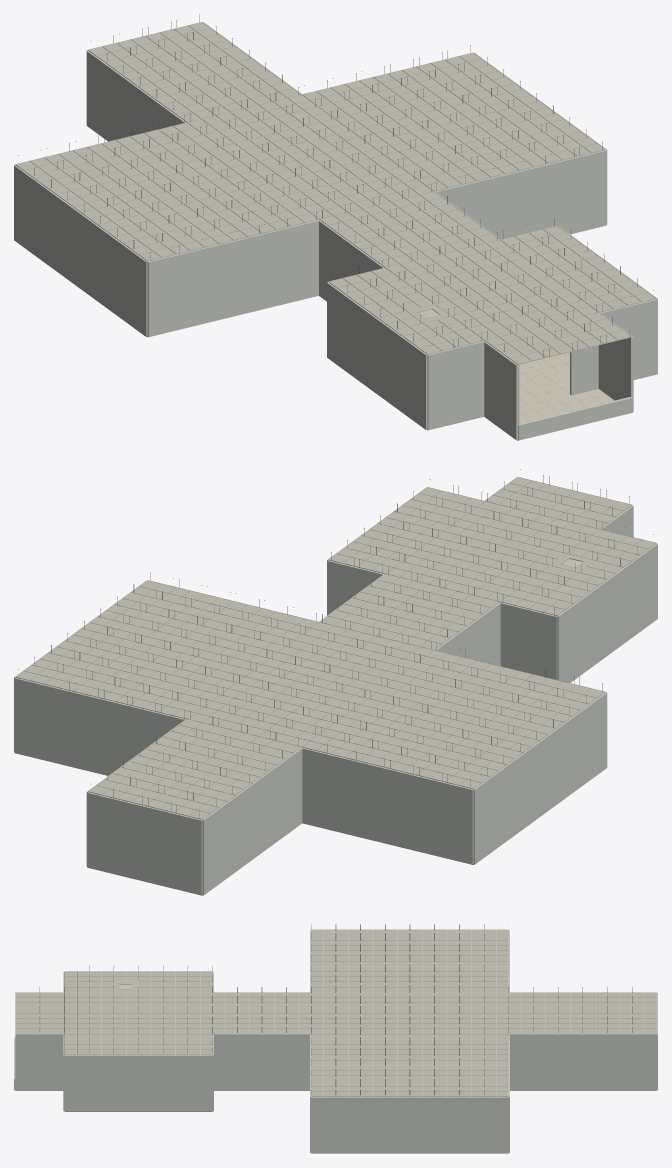
The model's file is foundation-fitted.glb.
3 renders of one model, top to bottom at view 1: azimuth 30°, elevation 25°; view 2: azimuth 150°, elevation 25°; view 3: azimuth 270°, elevation 25°, orthographic. The views are drawn at different scales.
Parts seen in each view (by area): view 1: Shell_west_store_south, Shell_west_store_back, Shell_east_store_south, Shell_west_atrium, Shell_west_corridor_north, Shell_west_arrival, Shell_east_arrival, Shell_west_apron, Shell_west_corridor_south, Shell_east_apron, Shell_entry_boundary; view 2: Shell_west_store_north, Shell_west_store_back, Shell_east_store_north, Shell_corridor_end, Shell_west_corridor_north, Shell_west_atrium, Shell_west_atrium_shoulder, Shell_west_corridor_south, Shell_east_atrium_shoulder; view 3: Shell_east_store_back, Shell_east_atrium, Shell_east_corridor_north, Shell_east_corridor_south, Shell_east_apron.
Part boxes in pixels (x1=…): Shell_west_store_south: x1=147, y1=220, x2=318, y2=337; Shell_west_store_back: x1=14, y1=165, x2=147, y2=336; Shell_east_store_south: x1=435, y1=150, x2=606, y2=239; Shell_west_atrium: x1=327, y1=282, x2=427, y2=429; Shell_west_corridor_north: x1=86, y1=50, x2=185, y2=141; Shell_west_arrival: x1=427, y1=341, x2=484, y2=430; Shell_east_arrival: x1=570, y1=299, x2=657, y2=395; Shell_west_apron: x1=484, y1=341, x2=519, y2=440; Shell_west_corridor_south: x1=318, y1=220, x2=384, y2=301; Shell_east_apron: x1=598, y1=312, x2=633, y2=411; Shell_entry_boundary: x1=518, y1=397, x2=633, y2=440; Shell_west_store_north: x1=301, y1=747, x2=473, y2=864; Shell_west_store_back: x1=473, y1=692, x2=607, y2=864; Shell_east_store_north: x1=14, y1=677, x2=185, y2=775; Shell_corridor_end: x1=87, y1=792, x2=202, y2=895; Shell_west_corridor_north: x1=202, y1=748, x2=302, y2=895; Shell_west_atrium: x1=557, y1=543, x2=657, y2=682; Shell_west_atrium_shoulder: x1=499, y1=602, x2=557, y2=679; Shell_west_corridor_south: x1=435, y1=603, x2=500, y2=665; Shell_east_atrium_shoulder: x1=327, y1=560, x2=384, y2=614; Shell_east_store_back: x1=311, y1=1097, x2=508, y2=1153; Shell_east_atrium: x1=64, y1=1055, x2=212, y2=1111; Shell_east_corridor_north: x1=510, y1=1034, x2=656, y2=1090; Shell_east_corridor_south: x1=213, y1=1034, x2=309, y2=1090; Shell_east_apron: x1=15, y1=1034, x2=64, y2=1090.
Bounding box in the file's own units: 19.32 × 3.39 × 31.32.
Materials: 27 (2 with a texture image).
